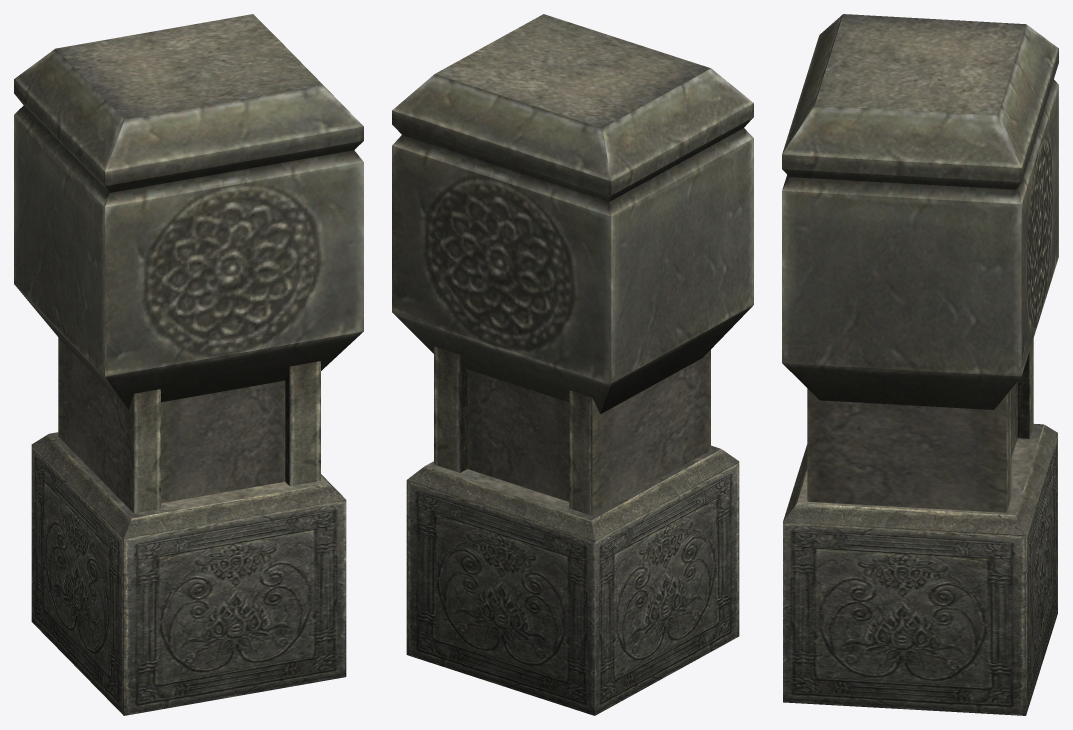
File: 4st_pillar_002.fbx
3 views of the same model, side by side, from view 1: azimuth 30°, elevation 25°; view 2: azimuth 150°, elevation 25°; view 3: azimuth 270°, elevation 25° (orthographic). The views are drawn at different scales.
Visible parts, largest first — view 1: 2st_pillar_002; view 2: 2st_pillar_002; view 3: 2st_pillar_002.
Part boxes in pixels (x1,y1,x2,y2): 2st_pillar_002: (14, 14, 363, 715); 2st_pillar_002: (392, 14, 753, 715); 2st_pillar_002: (782, 14, 1058, 715).
Bounding box in the file's own units: 4.66 × 9.78 × 4.1.
